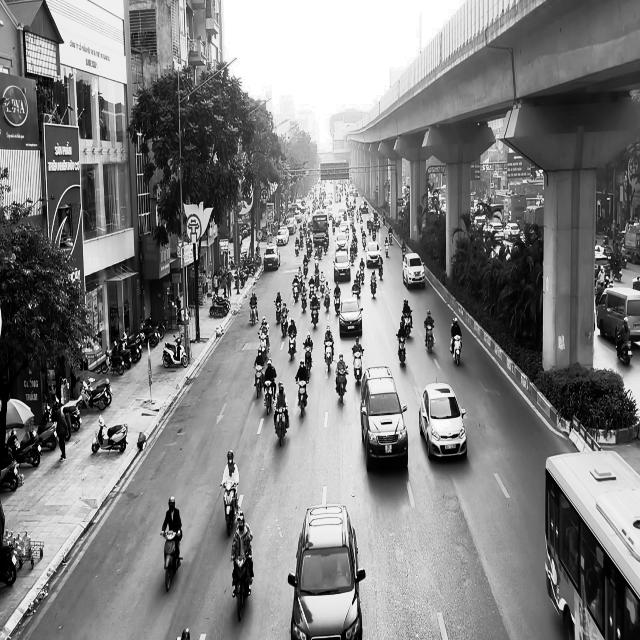bus: (544, 450, 640, 640)
car: (287, 502, 366, 640), (360, 366, 408, 472), (418, 380, 468, 460), (339, 297, 363, 337), (402, 253, 425, 289), (263, 244, 280, 271)
motorbike: (230, 553, 252, 622), (92, 415, 128, 454), (160, 530, 182, 592), (220, 481, 238, 536), (273, 401, 289, 446), (615, 326, 632, 365), (295, 378, 308, 418), (335, 366, 349, 403), (352, 348, 364, 383), (450, 334, 462, 366), (424, 322, 435, 354), (263, 380, 273, 415), (254, 364, 264, 398), (396, 333, 406, 364), (324, 341, 333, 372), (402, 312, 412, 338)
